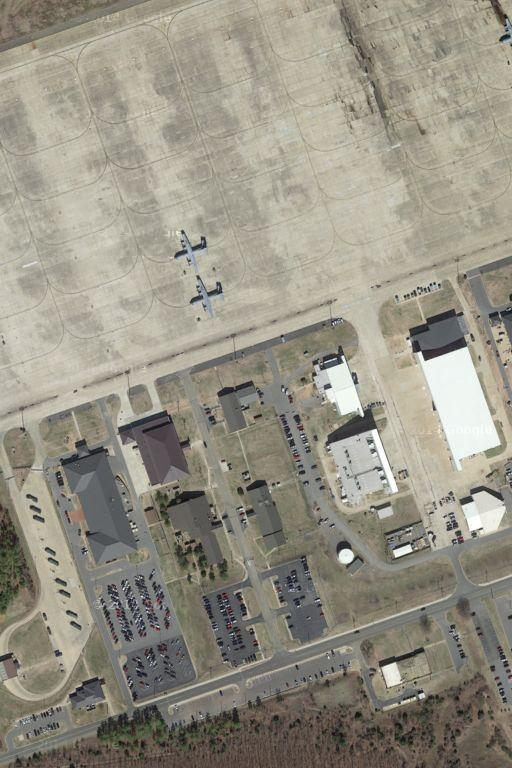C-130: (173, 227, 209, 272), (191, 274, 223, 312)
